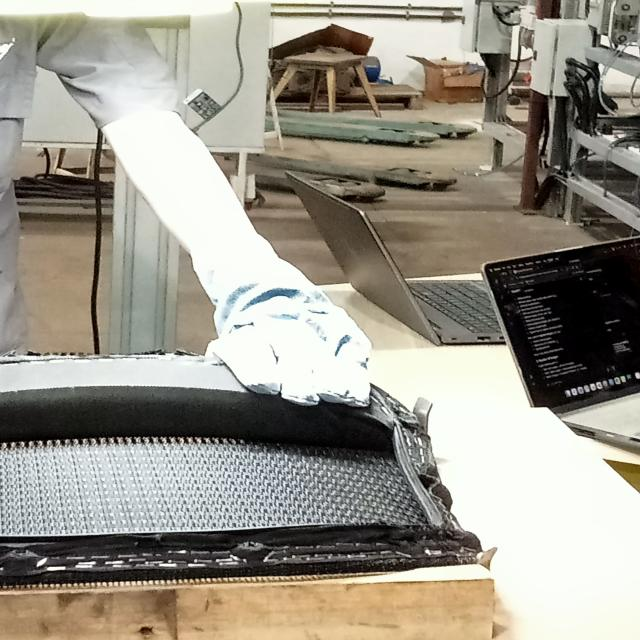Gloves-Detection: (204, 293, 379, 413)
